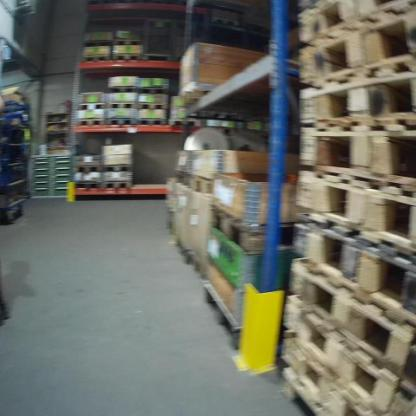pallet: (289, 259, 409, 372), (295, 215, 413, 324), (280, 297, 394, 409), (293, 170, 413, 254), (294, 123, 412, 193), (296, 7, 414, 69), (295, 66, 414, 126), (283, 333, 371, 413), (211, 207, 293, 253), (203, 279, 252, 349), (182, 249, 207, 281), (208, 13, 243, 29), (190, 177, 215, 196), (100, 176, 133, 190), (73, 156, 100, 173), (76, 113, 104, 128), (107, 100, 137, 113), (167, 116, 199, 128), (76, 101, 106, 113), (107, 83, 137, 95), (138, 99, 168, 110), (137, 117, 167, 127), (73, 180, 102, 190), (100, 165, 133, 173), (140, 86, 169, 95), (111, 53, 143, 61), (108, 117, 135, 126), (84, 37, 112, 45), (114, 36, 142, 44), (85, 55, 110, 63)
